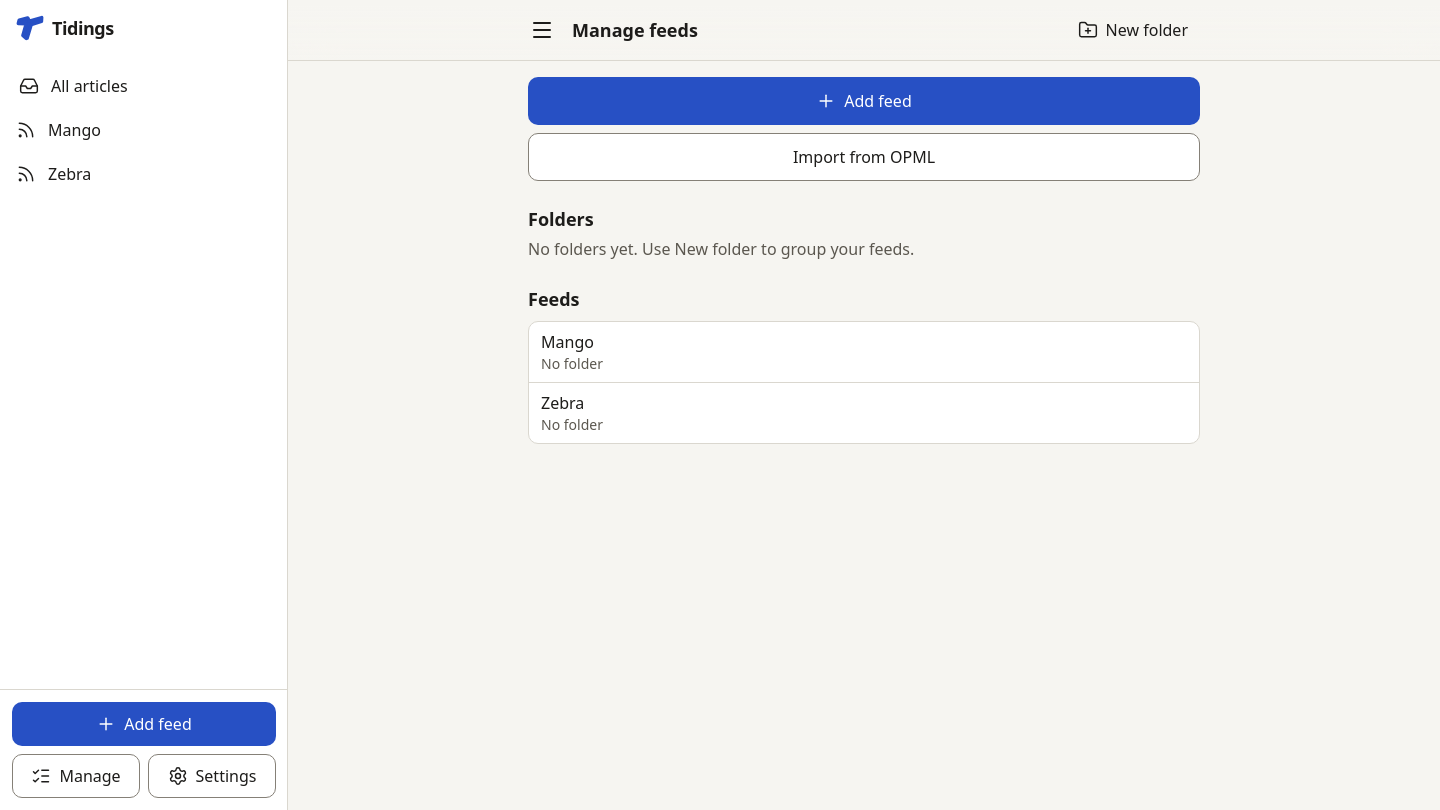
Test case: the sheet › is an option on the feed sheet, shows the current address, a field, Save and Cancel
Expected: the heading "Folders" is shown, [528, 207, 594, 231]
Click the button with aria-label "Mango, options": click(567, 342) [529, 322, 1199, 382]
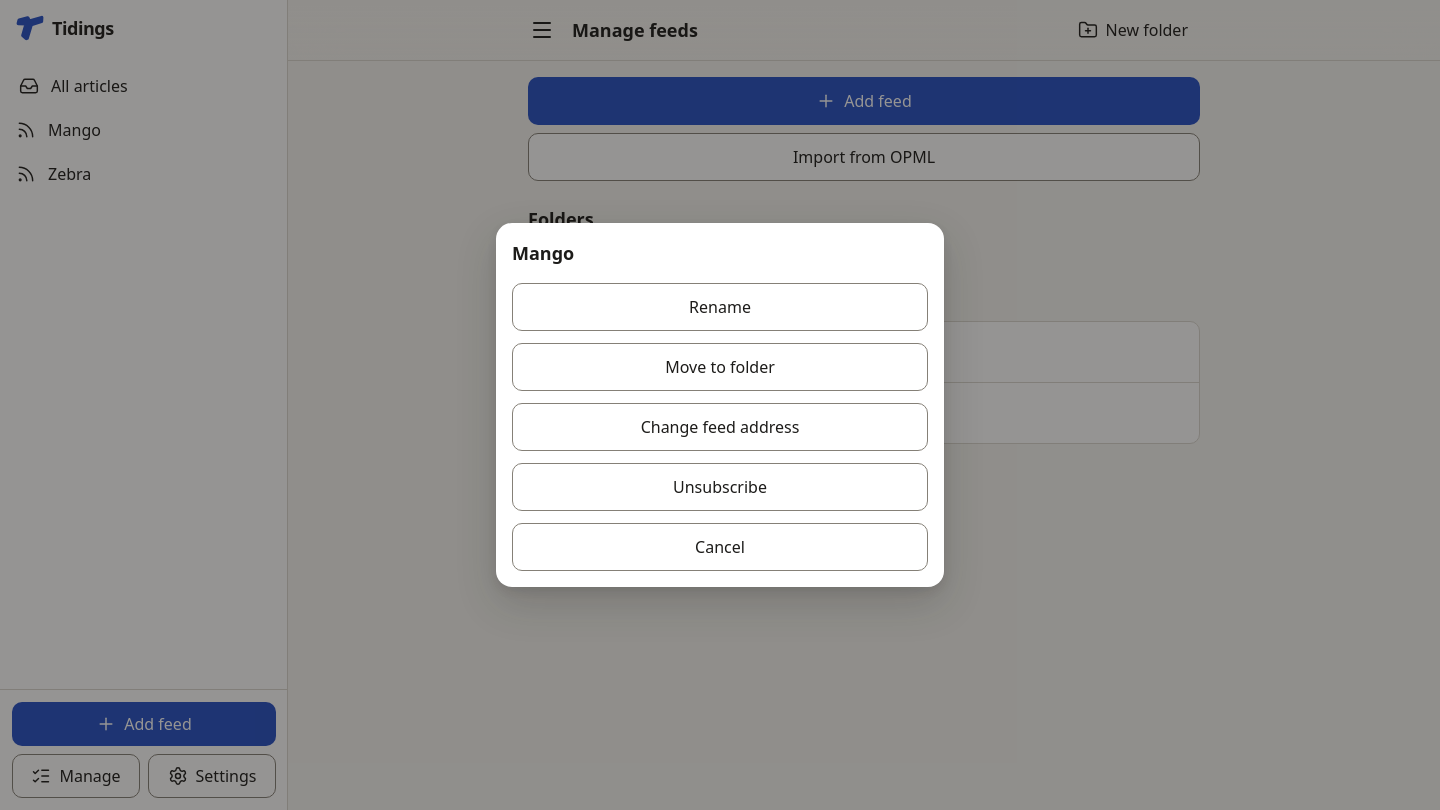
Click the button "Change feed address": click(720, 427) [512, 403, 928, 451]
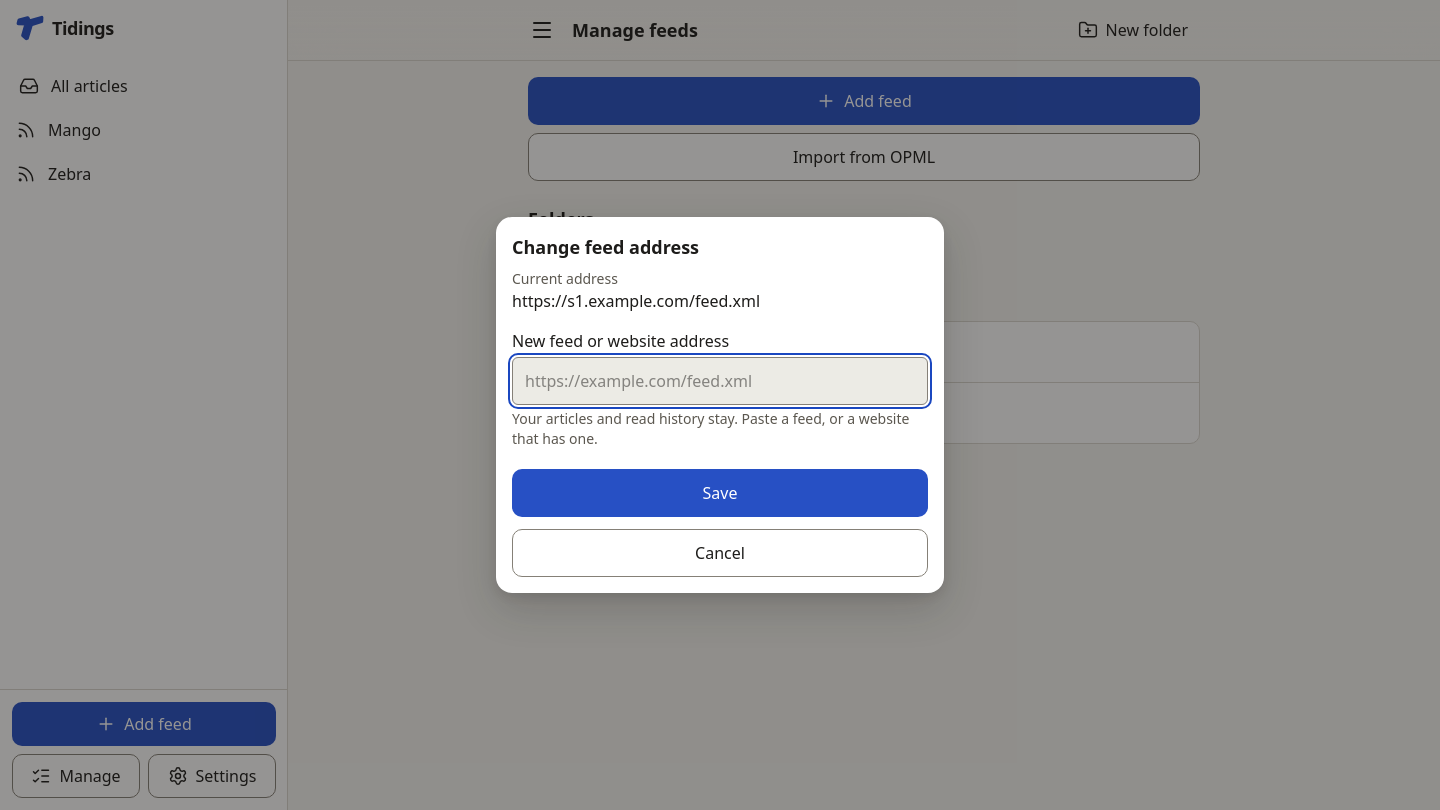
Expected: the heading "Change feed address" is shown, [512, 235, 699, 259]
Expected: the text "https://s1.example.com/feed.xml" is shown, [512, 290, 760, 312]
Expected: the button "Save" is shown, [512, 469, 928, 517]
